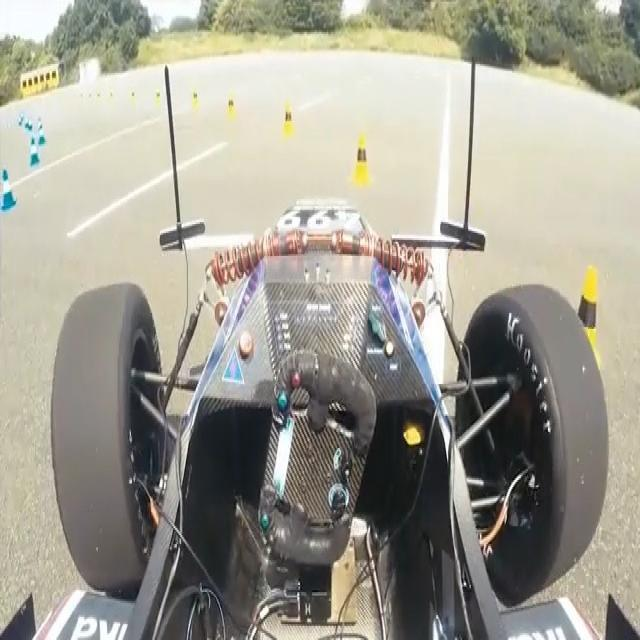blue_cone: (1, 161, 26, 216), (24, 138, 44, 175)
yellow_cone: (564, 262, 610, 366), (345, 122, 375, 213), (276, 100, 302, 146), (222, 86, 242, 119)
